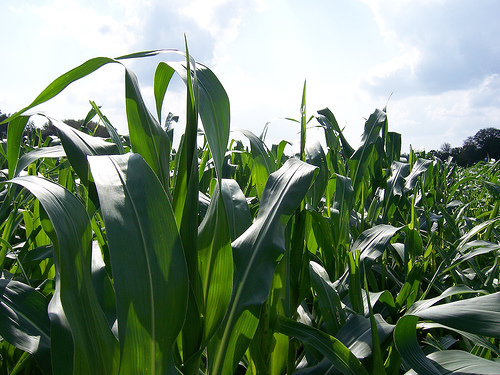corn: (0, 34, 499, 374)
